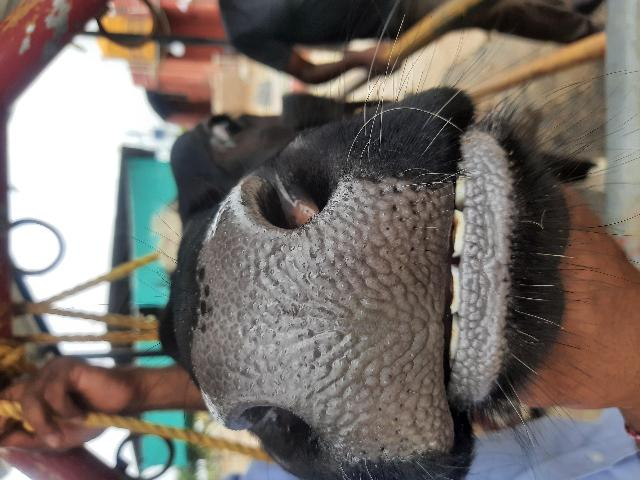Muzzle: (210, 236, 438, 400)
